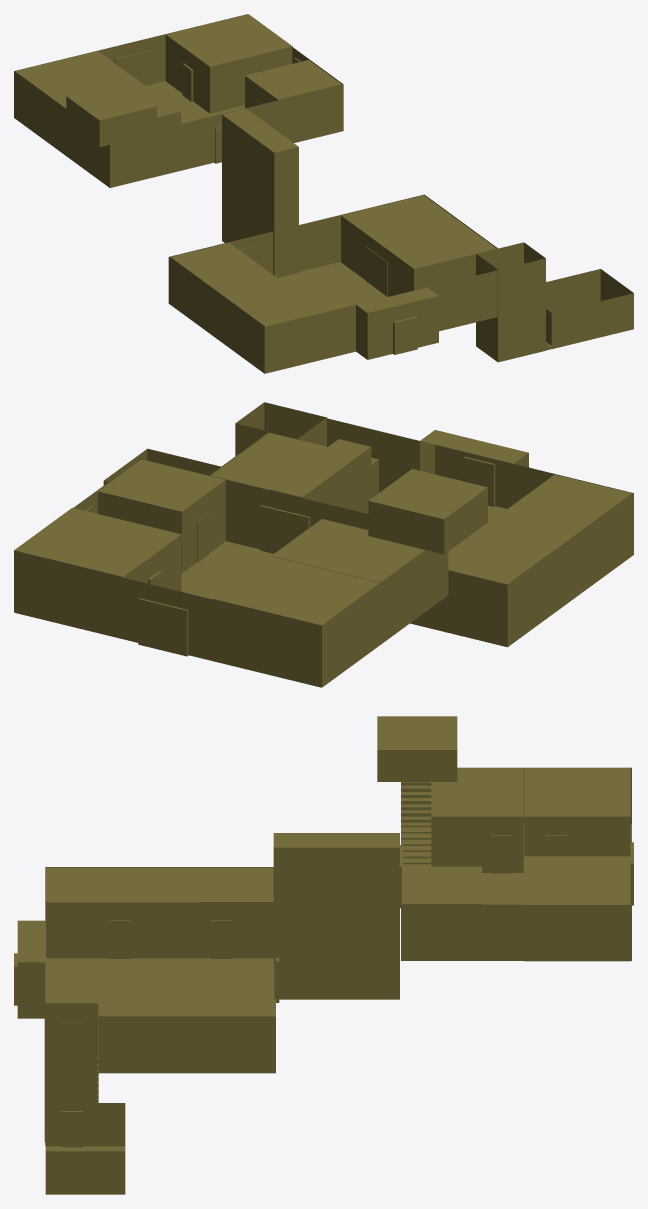
The model's file is structure_maison.fbx.
3 renders of one model, top to bottom at view 1: azimuth 30°, elevation 25°; view 2: azimuth 150°, elevation 25°; view 3: azimuth 270°, elevation 25°, orthographic. The views are drawn at different scales.
Parts seen in each view (by area): view 1: RDC, Etage1, RDC_cage_escalier_etage, Salon, Chambre_adulte, RDC_cage_escalier_soussol, Sous-sol, Chambre_enfant.001, Cuisine, Chambre_mere, Salle_bain, Buanderie (+4 smaller); view 2: Etage1, RDC, Chambre_adulte, Salle_bain, Chambre_enfant.001, Cuisine, Chambre_mere, Chambre_enfant, RDC_cage_escalier_etage, Salon, Buanderie, RDC_cage_escalier_soussol (+5 smaller); view 3: RDC_cage_escalier_etage, RDC, Cuisine, Chambre_adulte, Etage1, Chambre_mere, Salon, Chambre_enfant, Sous-sol, Buanderie, Chambre_enfant.001, RDC_cage_escalier_soussol (+7 smaller).
Part boxes in pixels (x1,y1,x2,y2): RDC: [168, 194, 497, 373]; Etage1: [14, 14, 343, 187]; RDC_cage_escalier_etage: [222, 108, 298, 277]; Salon: [341, 195, 496, 296]; Chambre_adulte: [165, 14, 292, 113]; RDC_cage_escalier_soussol: [476, 242, 545, 362]; Sous-sol: [546, 269, 633, 348]; Chambre_enfant.001: [66, 82, 156, 147]; Cuisine: [201, 265, 323, 326]; Chambre_mere: [15, 51, 141, 103]; Salle_bain: [245, 60, 341, 108]; Buanderie: [170, 243, 259, 280]; Etage1: [14, 458, 448, 687]; RDC: [209, 418, 633, 647]; Chambre_adulte: [14, 507, 181, 611]; Salle_bain: [98, 459, 225, 572]; Chambre_enfant.001: [368, 469, 487, 554]; Cuisine: [471, 474, 632, 555]; Chambre_mere: [212, 556, 380, 625]; Chambre_enfant: [271, 519, 425, 582]; RDC_cage_escalier_etage: [270, 439, 371, 513]; Salon: [211, 432, 378, 498]; Buanderie: [448, 536, 548, 585]; RDC_cage_escalier_soussol: [235, 402, 327, 455]; RDC_cage_escalier_etage: [273, 833, 399, 999]; RDC: [17, 867, 275, 1073]; Cuisine: [46, 867, 199, 958]; Chambre_adulte: [524, 856, 630, 961]; Etage1: [401, 767, 631, 960]; Chambre_mere: [524, 767, 630, 856]; Salon: [98, 967, 274, 1016]; Chambre_enfant: [431, 767, 523, 872]; Sous-sol: [45, 1103, 125, 1194]; Buanderie: [199, 867, 273, 958]; Chambre_enfant.001: [377, 716, 457, 781]; RDC_cage_escalier_soussol: [44, 1003, 97, 1142].
Bounding box in the file's own units: 3102 × 1528 × 3493.
